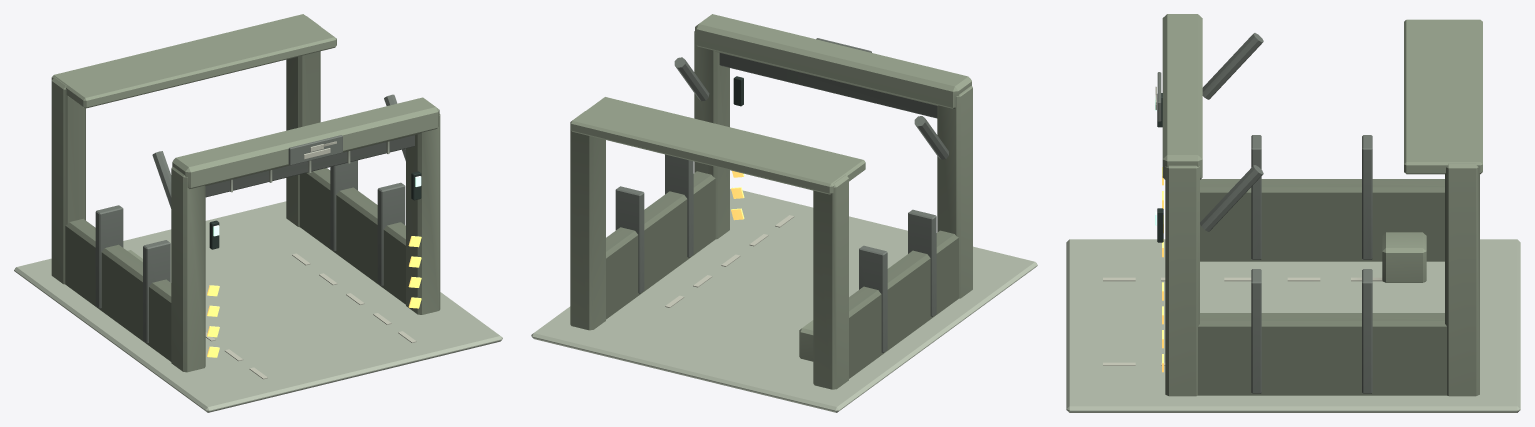
File: route_hangar.glb
The picture shows the model from 3 angles, left to right: view 1: azimuth 30°, elevation 25°; view 2: azimuth 150°, elevation 25°; view 3: azimuth 270°, elevation 25°; orthographic projection. The views are drawn at different scales.
Parts seen in each view (by area): view 1: Concrete apron, Rear roof fragment, Gate lintel, Low armoured sidewall, Low armoured sidewall.001, Gate pillar, Gate pillar.002, Gate pillar.001, Gate pillar.003, Retracted shutter, Side reinforcement.001, Side reinforcement.002 (+4 smaller); view 2: Concrete apron, Rear roof fragment, Gate lintel, Low armoured sidewall, Low armoured sidewall.001, Gate pillar.001, Gate pillar.003, Gate pillar, Gate pillar.002, Retracted shutter, Side reinforcement.003, Side reinforcement (+5 smaller); view 3: Concrete apron, Low armoured sidewall.001, Low armoured sidewall, Rear roof fragment, Gate pillar.003, Gate pillar.002, Gate lintel, Service crate, Side reinforcement.001, Side reinforcement.002, Side reinforcement.003, Side reinforcement (+2 smaller).
Boxes of the visible parts, x1,y1,x2,y2 form: Concrete apron: [14, 201, 502, 412]; Rear roof fragment: [51, 14, 336, 108]; Gate lintel: [172, 97, 439, 188]; Low armoured sidewall: [65, 218, 171, 361]; Low armoured sidewall.001: [300, 168, 405, 304]; Gate pillar: [171, 167, 205, 372]; Gate pillar.002: [406, 114, 440, 314]; Gate pillar.001: [51, 77, 85, 284]; Gate pillar.003: [286, 16, 320, 227]; Retracted shutter: [205, 135, 414, 197]; Side reinforcement.001: [95, 205, 123, 308]; Side reinforcement.002: [377, 182, 405, 286]; Concrete apron: [531, 189, 1037, 412]; Rear roof fragment: [570, 97, 865, 194]; Gate lintel: [695, 14, 971, 108]; Low armoured sidewall: [849, 230, 958, 378]; Low armoured sidewall.001: [606, 171, 715, 319]; Gate pillar.001: [813, 175, 848, 389]; Gate pillar.003: [570, 111, 605, 330]; Gate pillar: [937, 85, 972, 298]; Gate pillar.002: [694, 31, 729, 239]; Retracted shutter: [719, 53, 937, 118]; Side reinforcement.003: [615, 186, 644, 293]; Side reinforcement: [908, 209, 936, 316]; Concrete apron: [1066, 239, 1520, 412]; Low armoured sidewall.001: [1198, 313, 1446, 395]; Low armoured sidewall: [1200, 179, 1444, 261]; Rear roof fragment: [1404, 19, 1482, 174]; Gate pillar.003: [1445, 163, 1479, 396]; Gate pillar.002: [1165, 165, 1199, 396]; Gate lintel: [1162, 14, 1202, 179]; Service crate: [1382, 232, 1426, 282]; Side reinforcement.001: [1362, 135, 1372, 259]; Side reinforcement.002: [1251, 269, 1261, 393]; Side reinforcement.003: [1362, 269, 1372, 393]; Side reinforcement: [1251, 135, 1261, 259].
Size of the model in its own units: 3.8 by 2.56 by 4.3.
